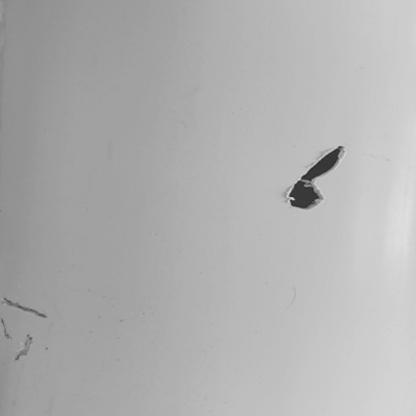fengxi: (1, 295, 48, 321), (16, 334, 32, 361), (1, 314, 13, 341)
kongdong: (287, 149, 343, 209)
